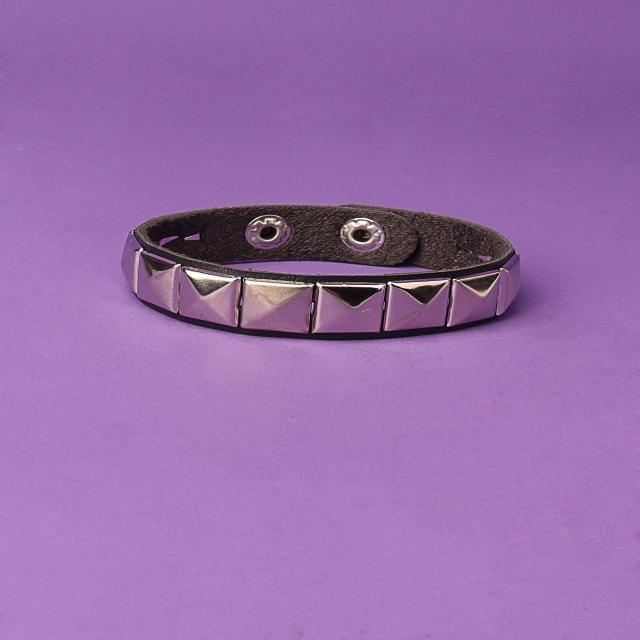bracelet: (38, 133, 595, 396)
